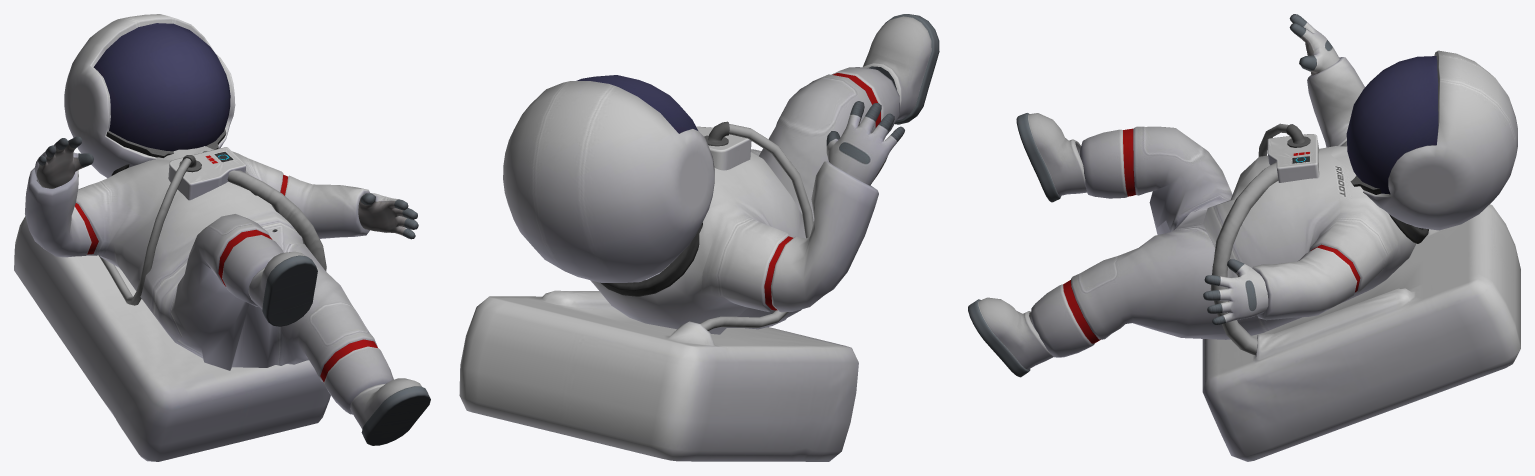
The model's file is astronaut.glb.
The picture shows the model from 3 angles, left to right: view 1: azimuth 30°, elevation 25°; view 2: azimuth 150°, elevation 25°; view 3: azimuth 270°, elevation 25°; orthographic projection. The views are drawn at different scales.
Parts seen in each view (by area): view 1: Astronaut; view 2: Astronaut; view 3: Astronaut.
Part boxes in pixels (x1,y1,x2,y2): Astronaut: (14, 14, 430, 461); Astronaut: (459, 14, 939, 461); Astronaut: (968, 14, 1520, 461).
Bounding box in the file's own units: 3.02 × 3.02 × 4.13.
1 material, 1 textured.
